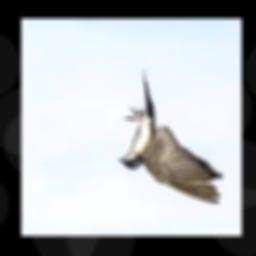Swallow: (119, 68, 223, 203)
